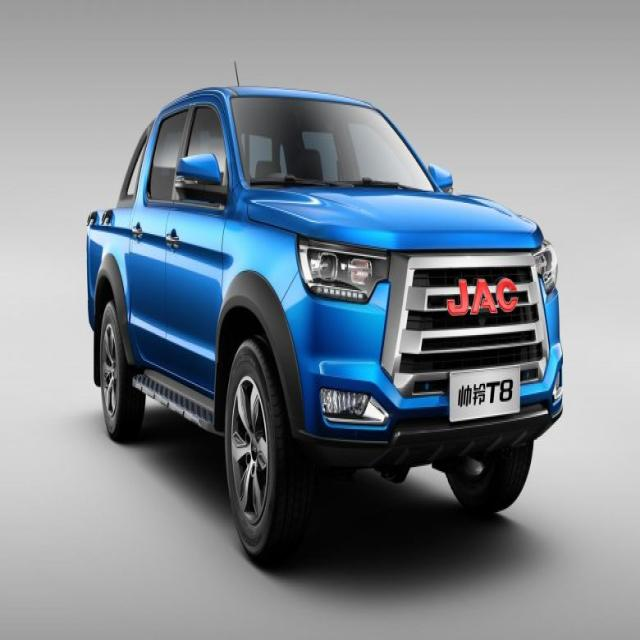Pickup Trucks: (86, 88, 564, 568)
